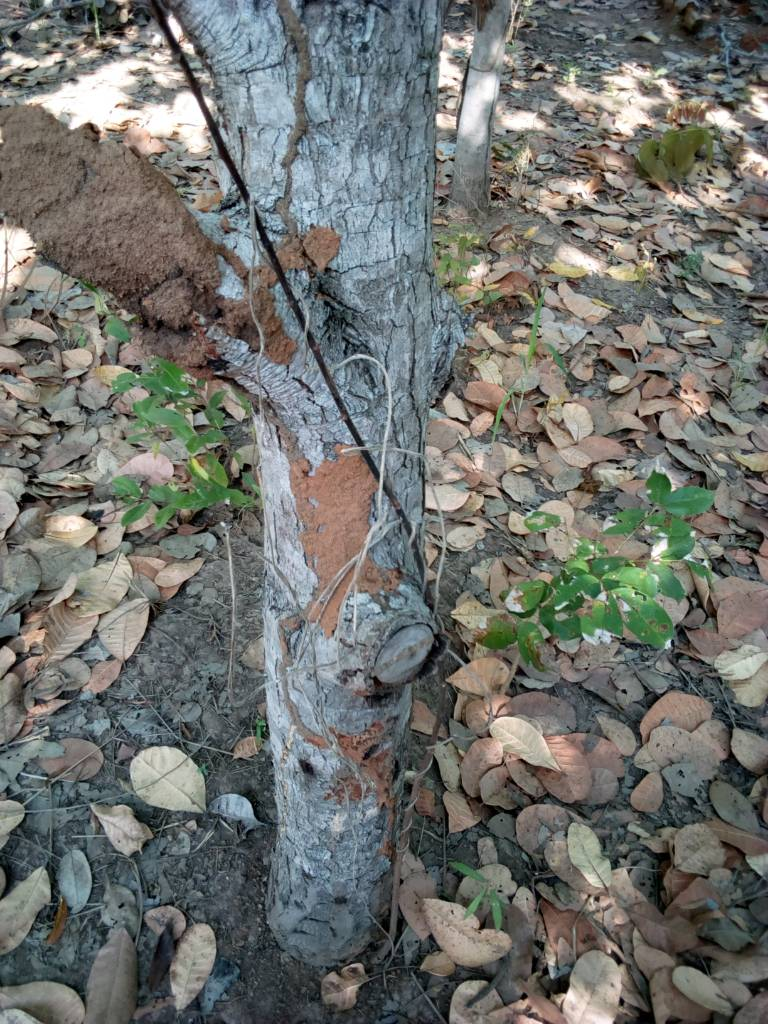Virose: (1, 64, 221, 440)
